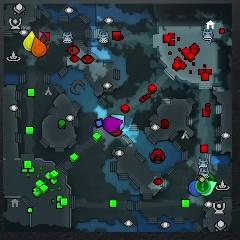Other: (196, 179, 210, 193)
p1: (188, 180, 201, 197)
p2: (201, 181, 217, 196)
p3: (103, 116, 123, 133)
p4: (23, 30, 36, 52)
p5: (31, 36, 47, 57)
x1: (38, 30, 43, 39)
x3: (110, 113, 125, 130)
x4: (206, 172, 216, 181)
x5: (40, 35, 51, 50)
